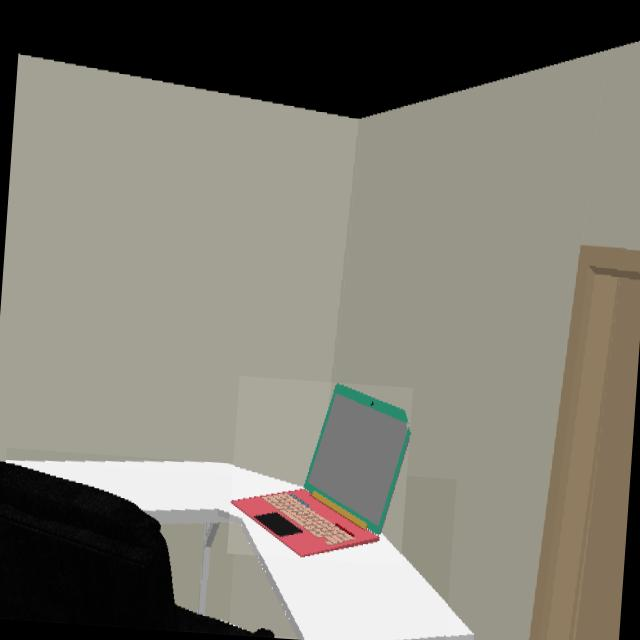chair: (0, 463, 227, 633)
laptop: (230, 383, 409, 558)
table: (5, 461, 447, 640)
